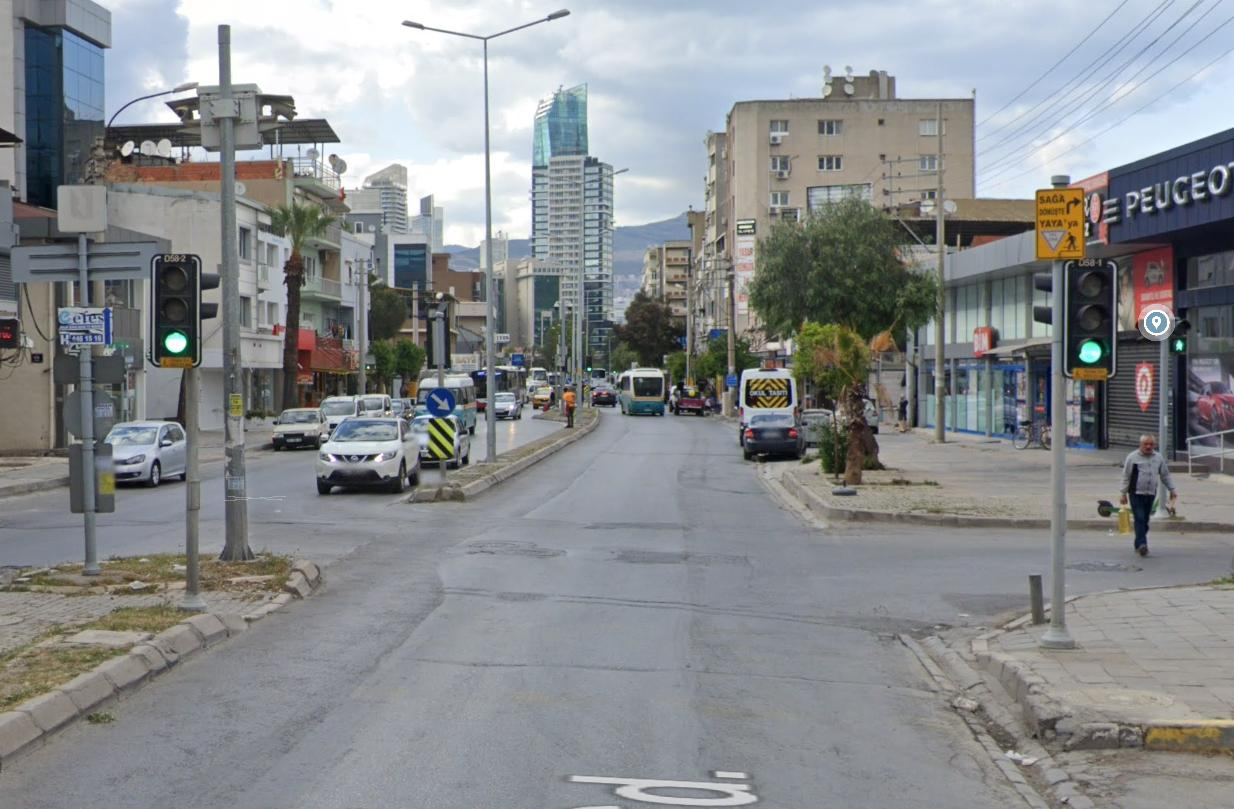greenlight: (1065, 259, 1115, 368), (154, 258, 195, 356)
